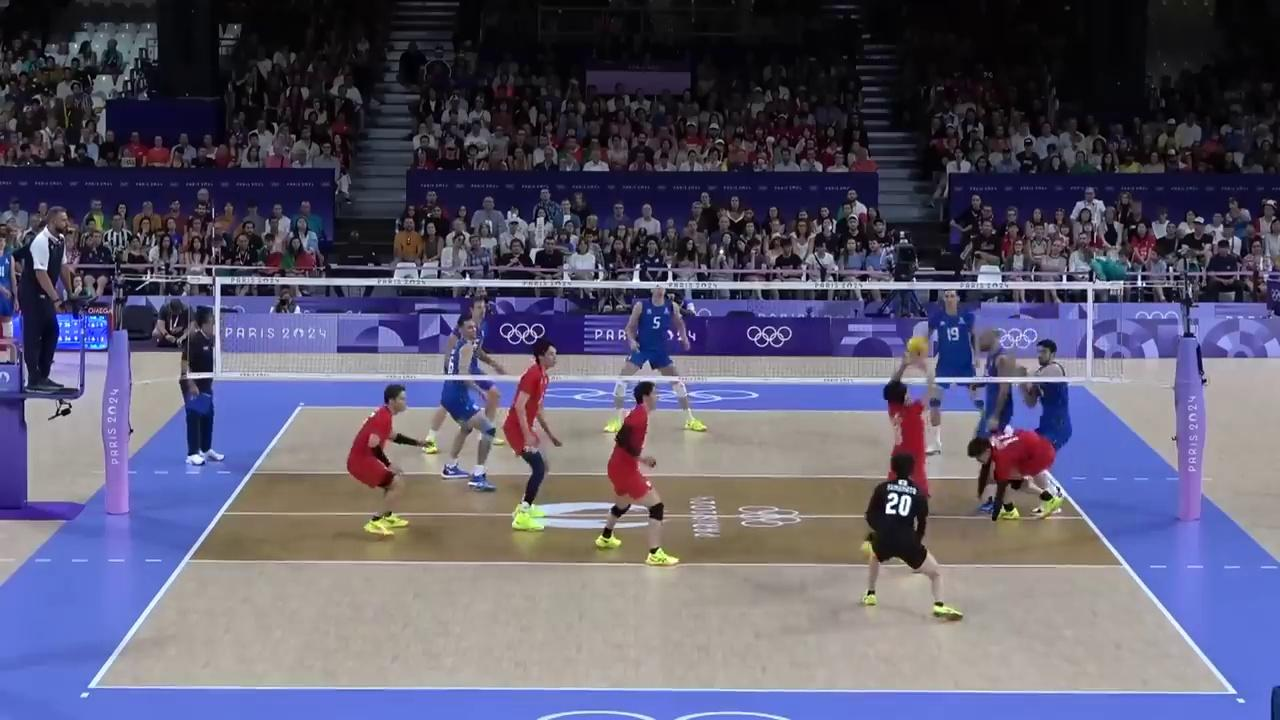ball: (908, 338, 928, 361)
